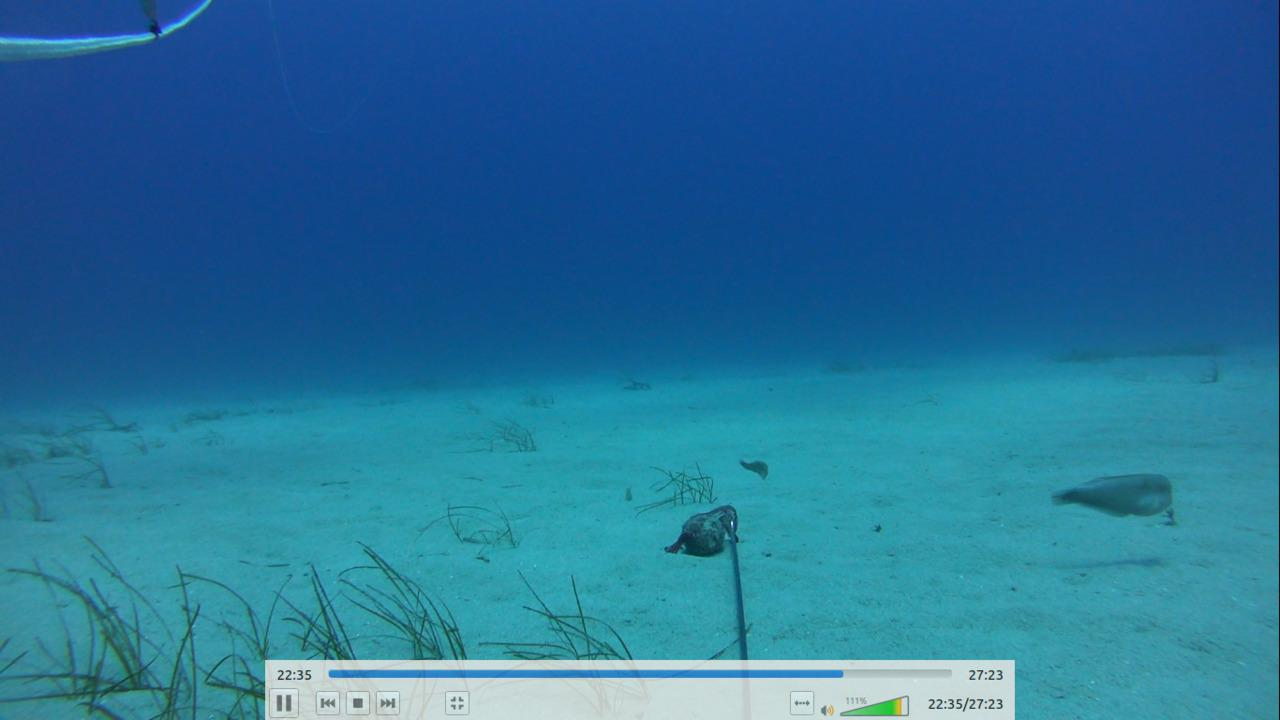raor: (1049, 469, 1177, 521), (730, 449, 771, 481)
